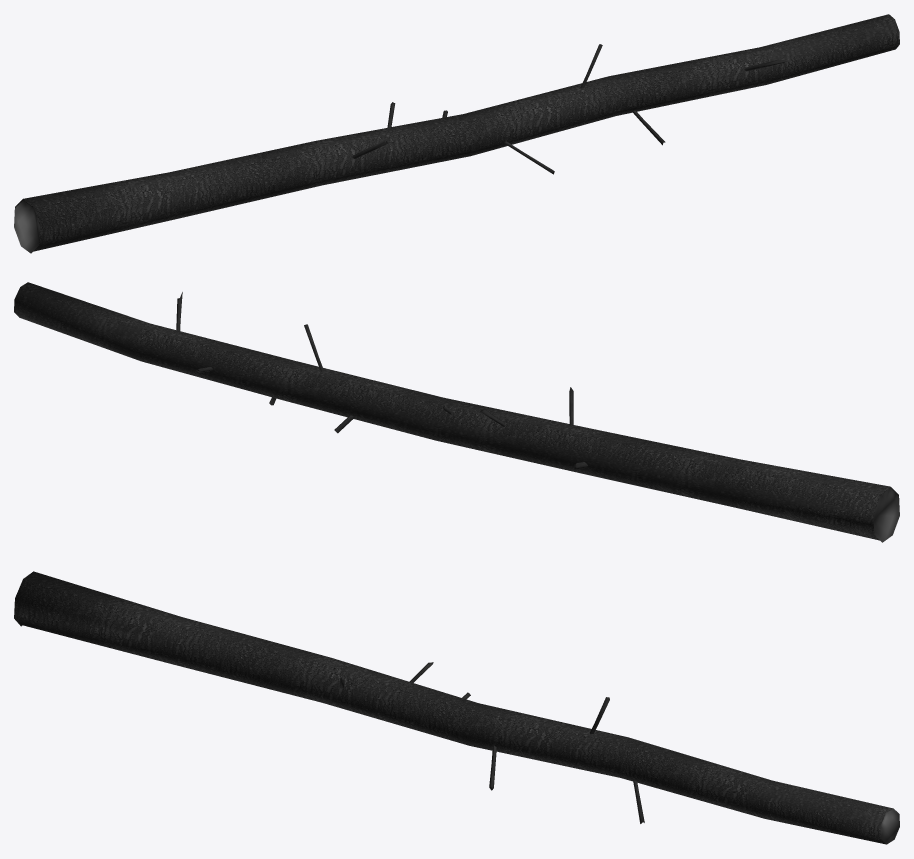
Rendered from A_DeciduousLog_30.glb.
3 renders of one model, top to bottom at view 1: azimuth 30°, elevation 25°; view 2: azimuth 150°, elevation 25°; view 3: azimuth 330°, elevation 25°, orthographic. The views are drawn at different scales.
Visible parts, largest first — view 1: DeciduousLog_30; view 2: DeciduousLog_30; view 3: DeciduousLog_30.
Part boxes in pixels (x1=…): DeciduousLog_30: x1=14, y1=14, x2=899, y2=253; DeciduousLog_30: x1=14, y1=282, x2=899, y2=542; DeciduousLog_30: x1=14, y1=571, x2=899, y2=844.
Bounding box in the file's own units: 6.92 × 0.7849 × 0.744.
Materials: 1 (1 with a texture image).
